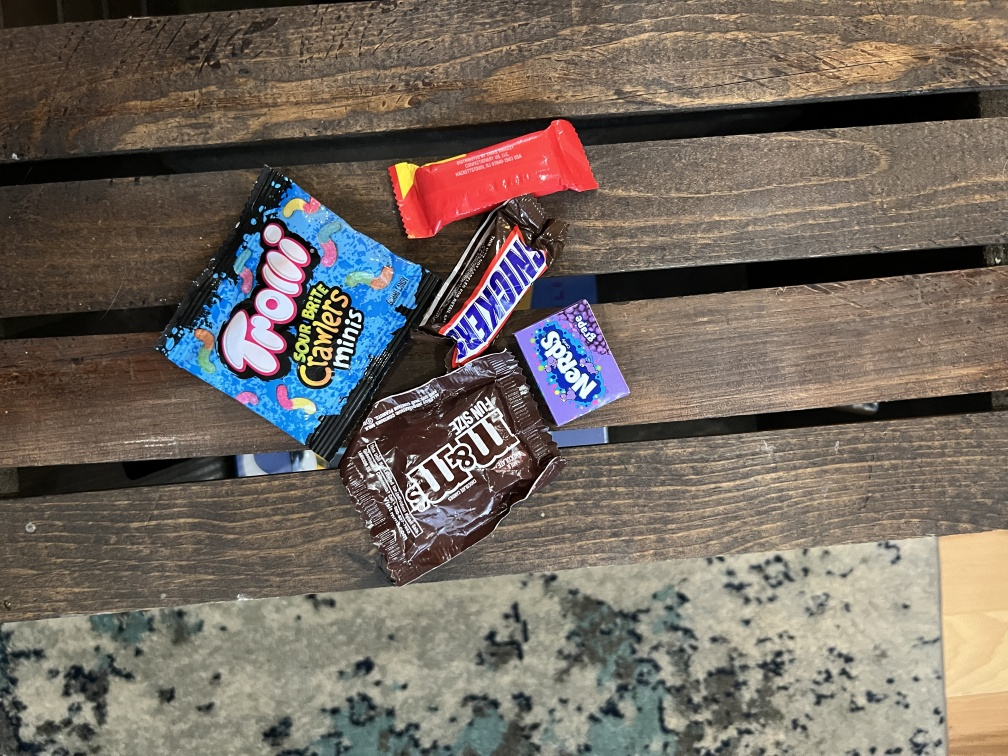MMs_peanut: (341, 356, 577, 560)
gummy_worms: (161, 150, 407, 448)
nerds: (513, 300, 654, 407)
snickers: (418, 214, 605, 367)
starbust: (366, 122, 624, 235)
